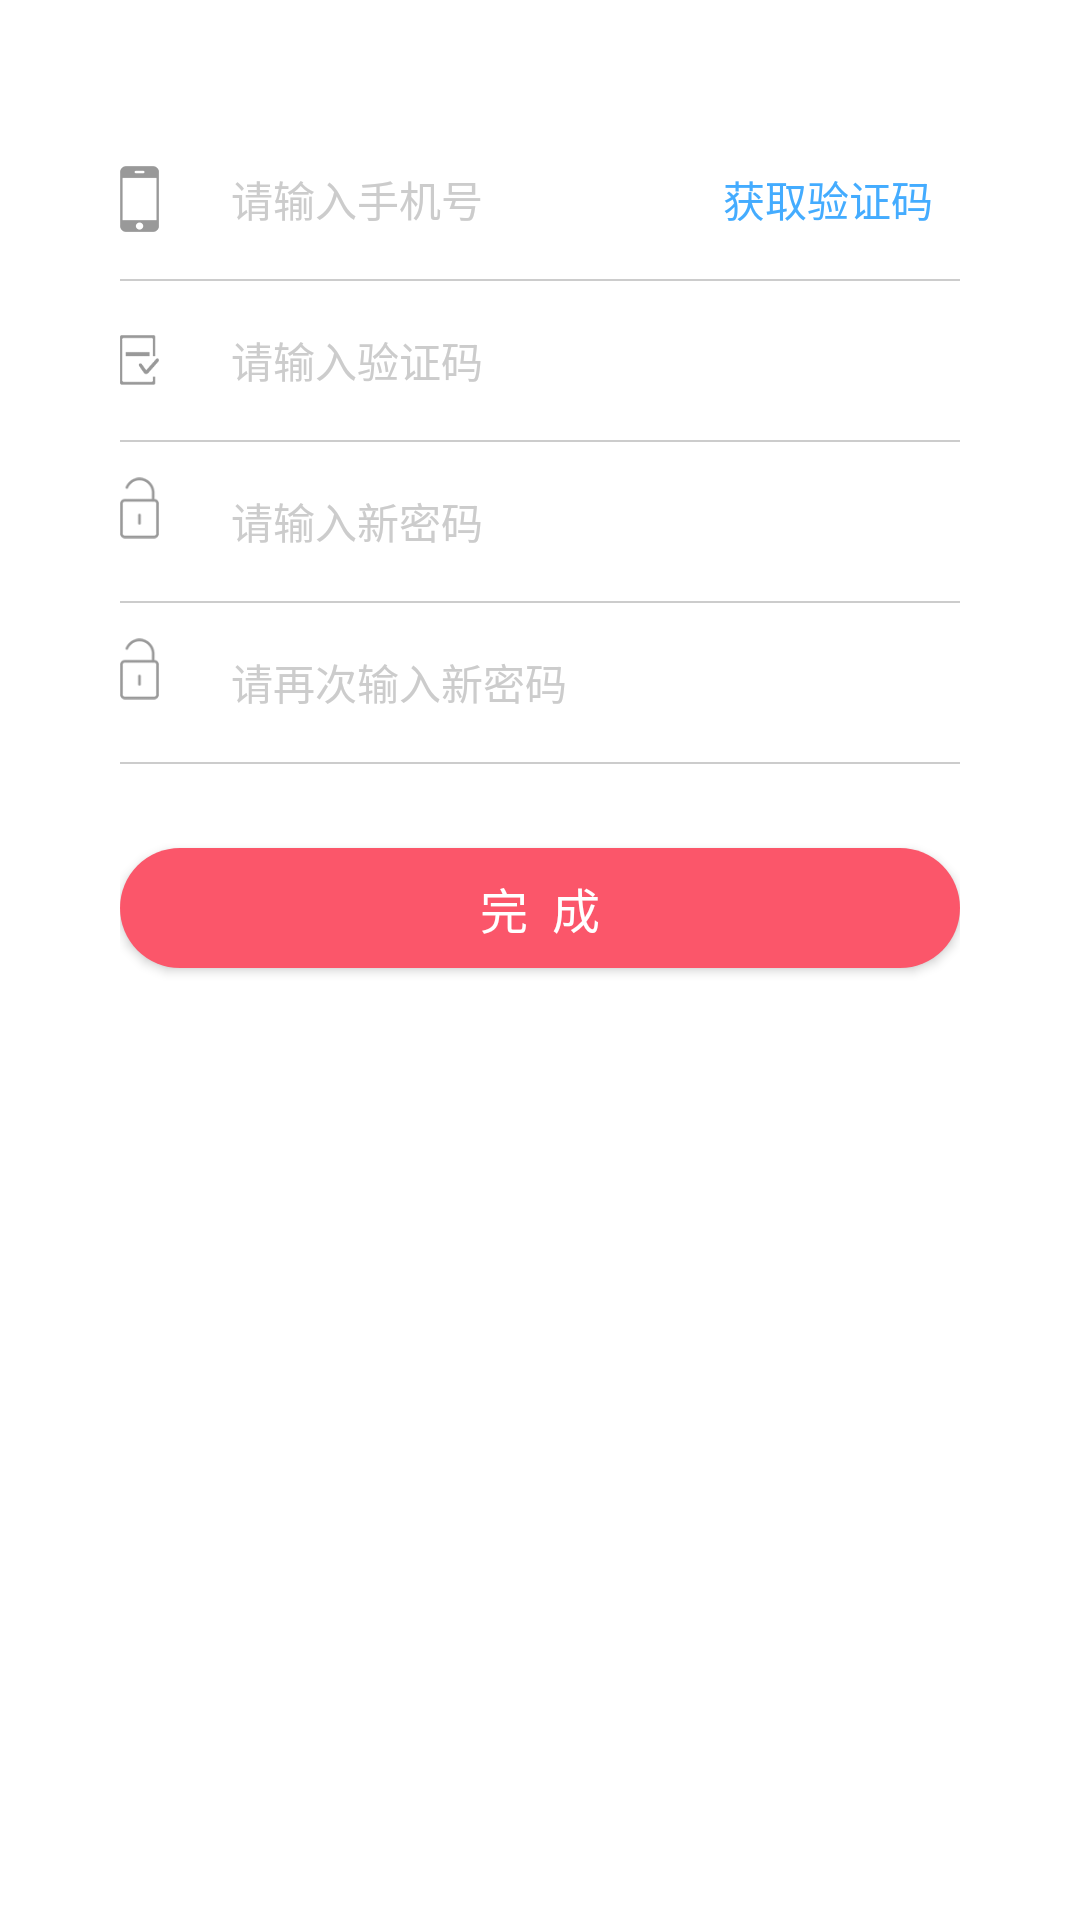

Screen size 1080×1920. Icon name, then its box in pixels as (x1, y1, x2, y2):
login code: (120, 335, 159, 385)
login password: (120, 477, 159, 539), (120, 638, 159, 700)
login phone: (120, 166, 159, 232)
